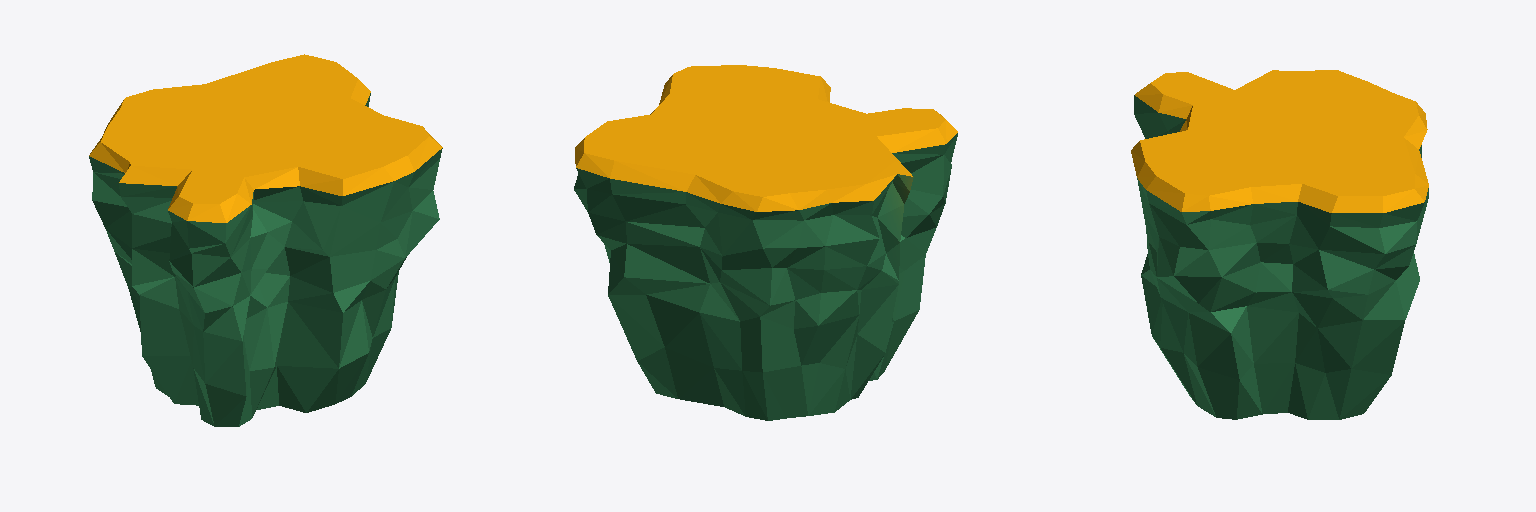
The picture shows the model from 3 angles: view 1: azimuth 30°, elevation 25°; view 2: azimuth 150°, elevation 25°; view 3: azimuth 270°, elevation 25°; orthographic projection.
Visible parts, largest first — view 1: Plane.004; view 2: Plane.004; view 3: Plane.004.
Boxes of the visible parts, box(x1,y1,x2,y2) form: Plane.004: box(89, 54, 442, 426); Plane.004: box(574, 65, 957, 420); Plane.004: box(1131, 70, 1428, 419).
Bounding box in the file's own units: 6.33 × 5.29 × 5.78.
Materials: 1 (1 with a texture image).